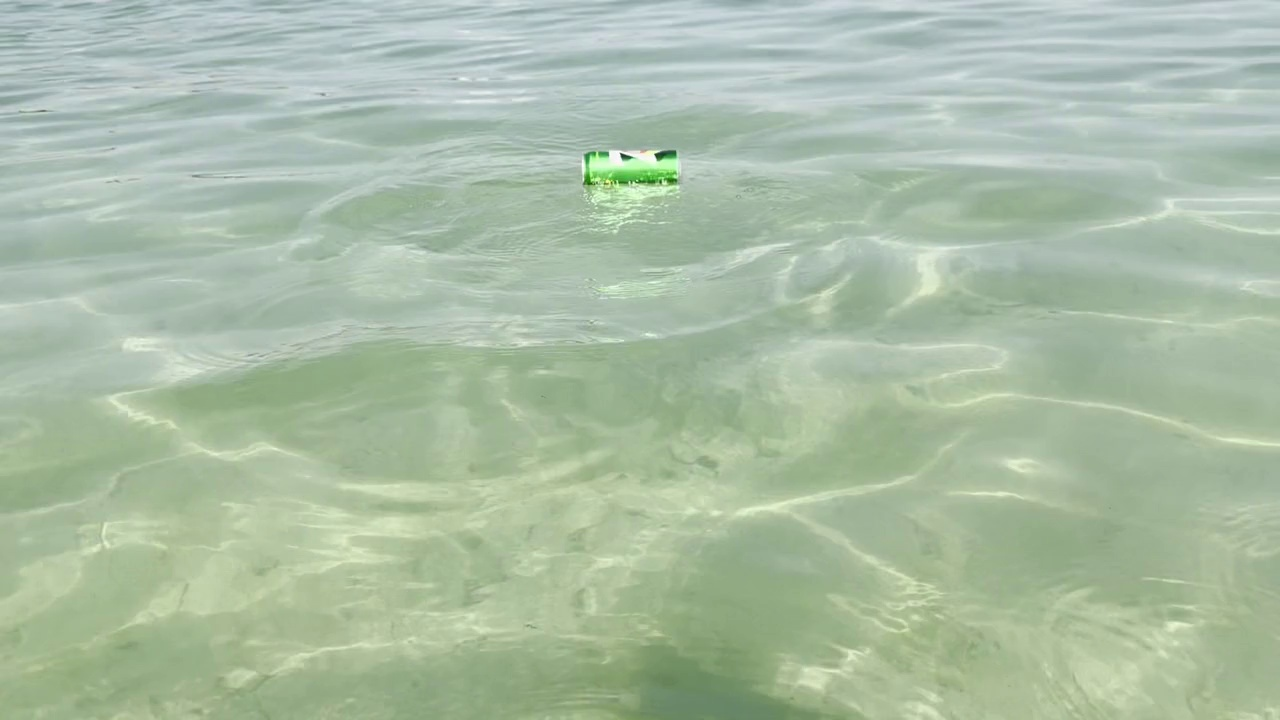debris: (577, 138, 691, 198)
